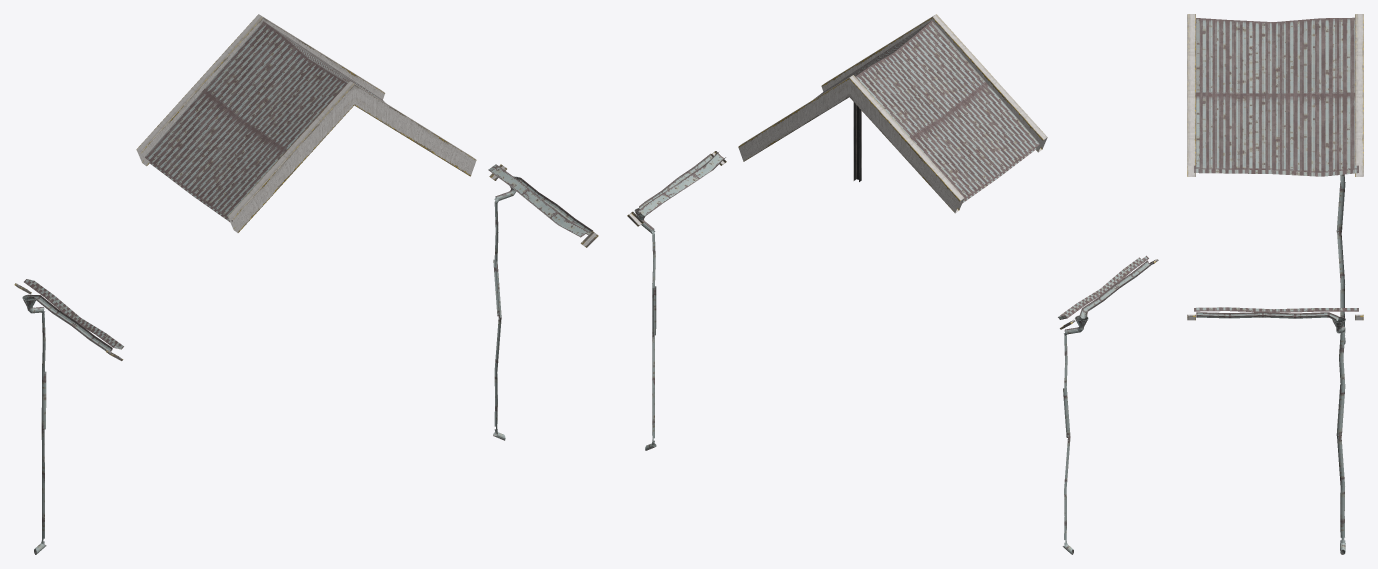
The model's file is apse.glb.
3 views of the same model, side by side, from view 1: azimuth 30°, elevation 25°; view 2: azimuth 150°, elevation 25°; view 3: azimuth 270°, elevation 25° (orthographic). The views are drawn at different scales.
Parts seen in each view (by area): view 1: Church1_End_B; view 2: Church1_End_B; view 3: Church1_End_B.
Part boxes in pixels (x1,y1,x2,y2): Church1_End_B: (14, 14, 598, 554); Church1_End_B: (627, 14, 1158, 554); Church1_End_B: (1187, 14, 1363, 554).
Bounding box in the file's own units: 10.1 × 9.23 × 3.38.
Materials: 1 (1 with a texture image).
